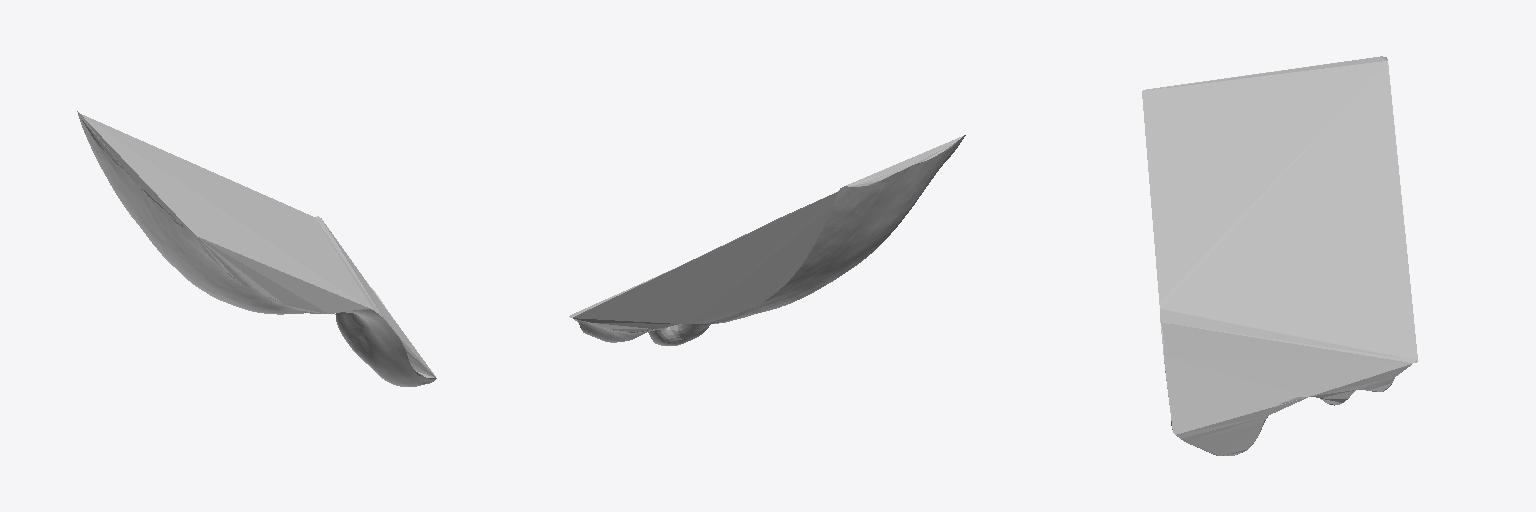
Rendered from skin_sample_textured6.obj.
3 views of the same model, side by side, from view 1: azimuth 30°, elevation 25°; view 2: azimuth 150°, elevation 25°; view 3: azimuth 270°, elevation 25° (orthographic).
Parts seen in each view (by area): view 1: skin_sample_textured; view 2: skin_sample_textured; view 3: skin_sample_textured.
Part boxes in pixels (left/top/right/bottom): skin_sample_textured: left=77, top=111, right=436, bottom=386; skin_sample_textured: left=569, top=135, right=965, bottom=345; skin_sample_textured: left=1142, top=56, right=1417, bottom=455.
Size of the model in its own units: 79.74 by 79.59 by 72.33.